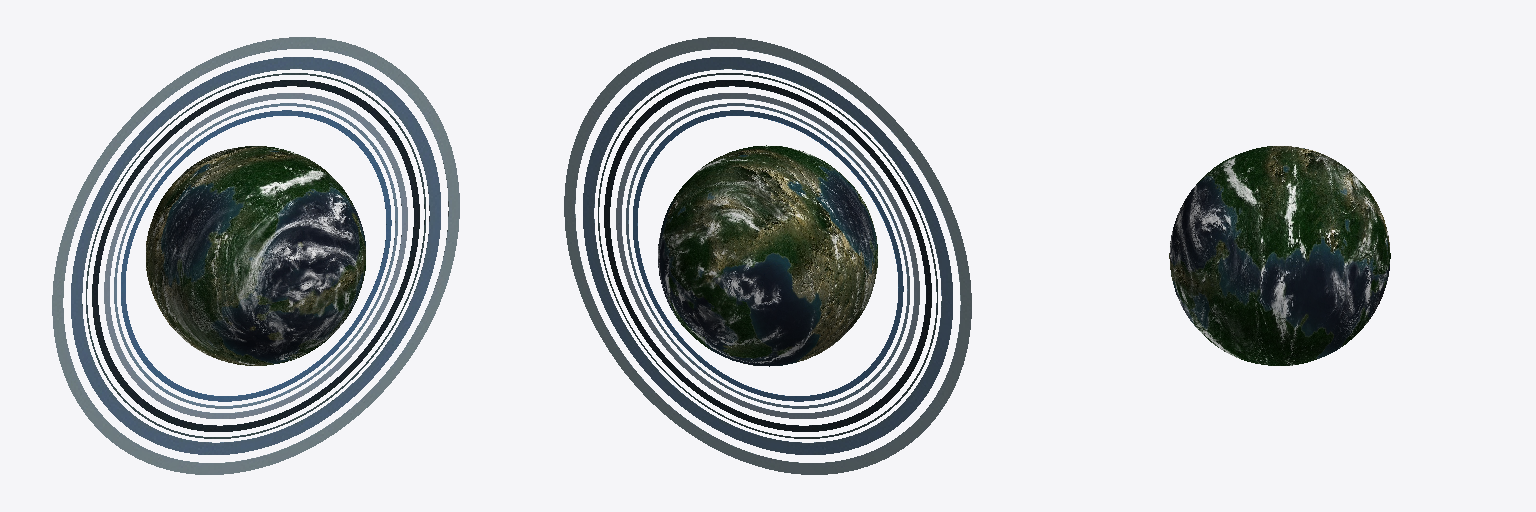
3 renders of one model, left to right at view 1: azimuth 30°, elevation 25°; view 2: azimuth 150°, elevation 25°; view 3: azimuth 270°, elevation 25°, orthographic.
Visible parts, largest first — view 1: 10474_Ringed_Planet_v1_Rings, 10474_Ringed_Planet_v1_Planet; view 2: 10474_Ringed_Planet_v1_Rings, 10474_Ringed_Planet_v1_Planet; view 3: 10474_Ringed_Planet_v1_Planet.
Part boxes in pixels (bbox=[...]): 10474_Ringed_Planet_v1_Rings: bbox=[52, 37, 459, 474]; 10474_Ringed_Planet_v1_Planet: bbox=[146, 146, 365, 365]; 10474_Ringed_Planet_v1_Rings: bbox=[564, 37, 971, 474]; 10474_Ringed_Planet_v1_Planet: bbox=[658, 145, 877, 366]; 10474_Ringed_Planet_v1_Planet: bbox=[1169, 146, 1390, 365].
Size of the model in its own units: 4958694 by 4958693 by 2331324.
2 materials, 1 textured.